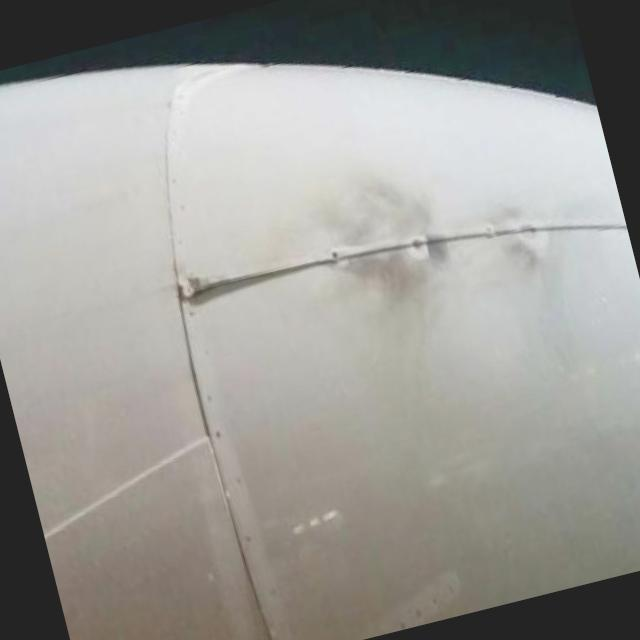crack: (165, 250, 312, 312)
dent: (334, 143, 580, 320)
